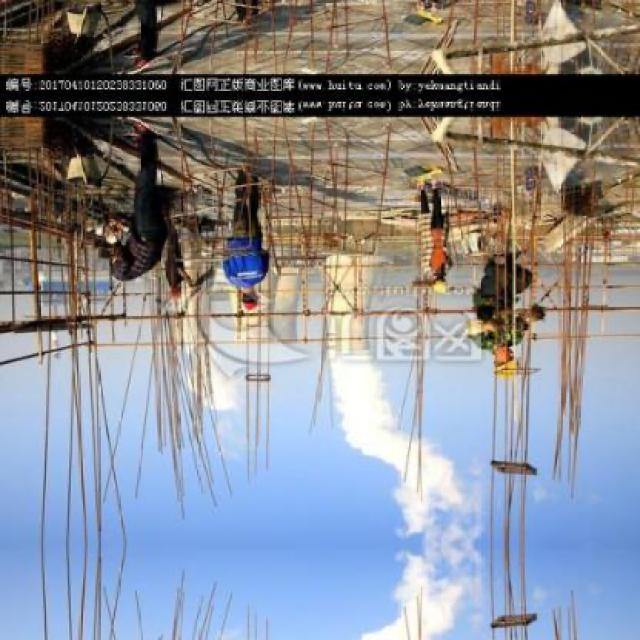con casco: (235, 272, 282, 333), (83, 249, 149, 292), (493, 330, 541, 371), (424, 250, 459, 285)
